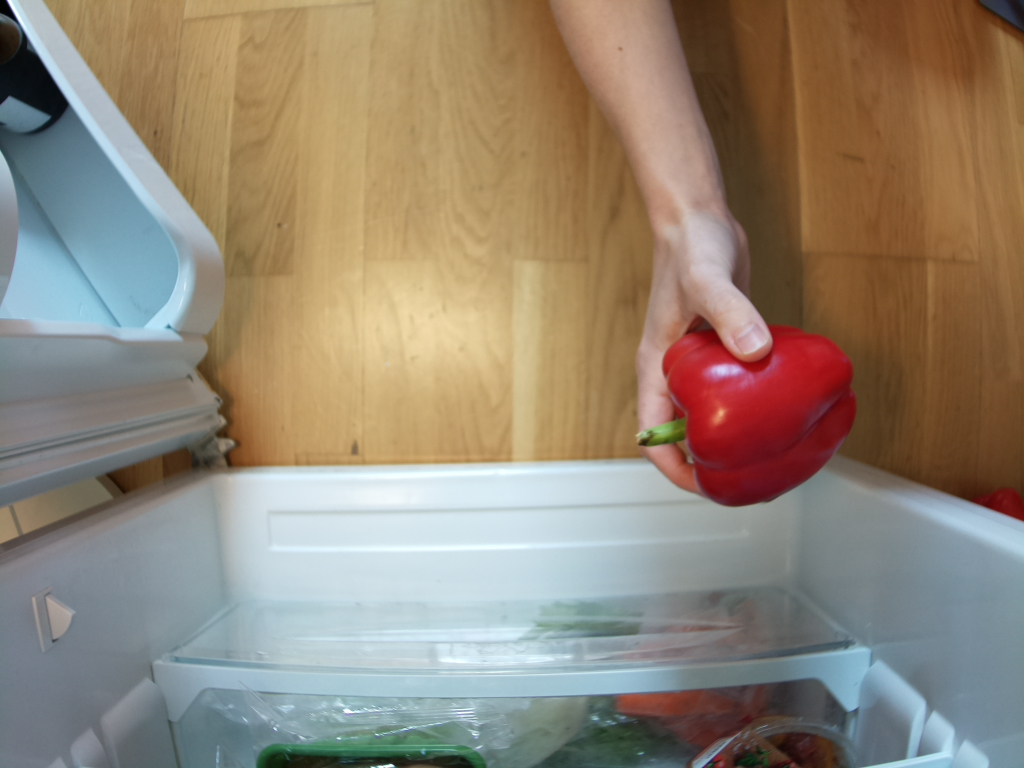pepper: (635, 327, 860, 507)
